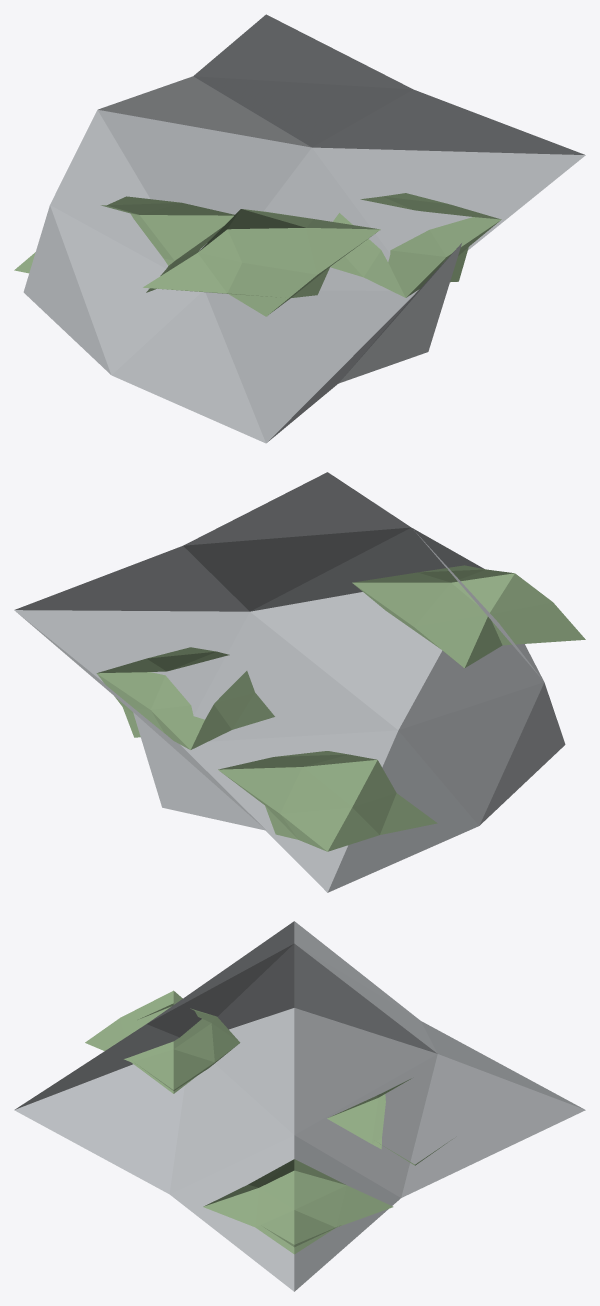
The model's file is moss_rock_v46.glb.
3 views of the same model, one above another, from view 1: azimuth 30°, elevation 25°; view 2: azimuth 150°, elevation 25°; view 3: azimuth 270°, elevation 25° (orthographic). The views are drawn at different scales.
Parts seen in each view (by area): view 1: lod0; view 2: lod0; view 3: lod0.
Boxes of the visible parts, left/top/right/bottom form: lod0: left=14, top=14, right=585, bottom=443; lod0: left=14, top=472, right=585, bottom=892; lod0: left=14, top=921, right=585, bottom=1291.
Size of what is drawn, in the model's own units: 0.906 by 0.6607 by 0.9233.
